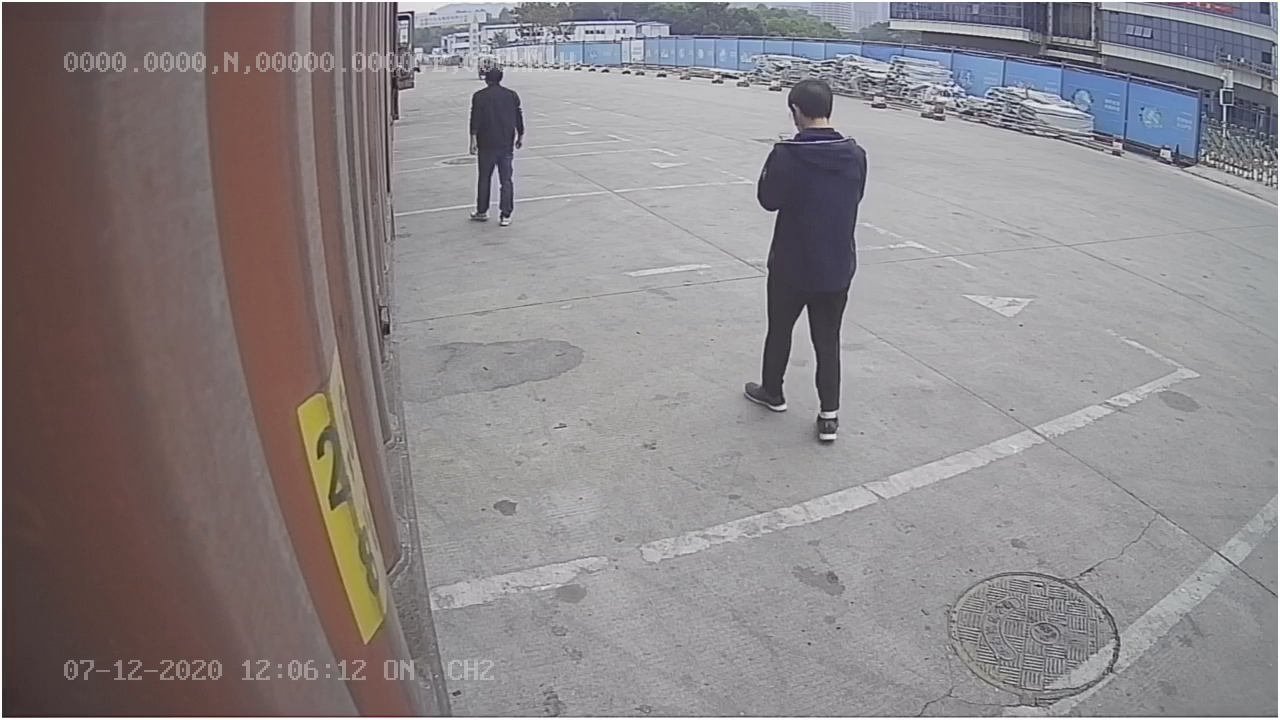person: (736, 79, 875, 446)
